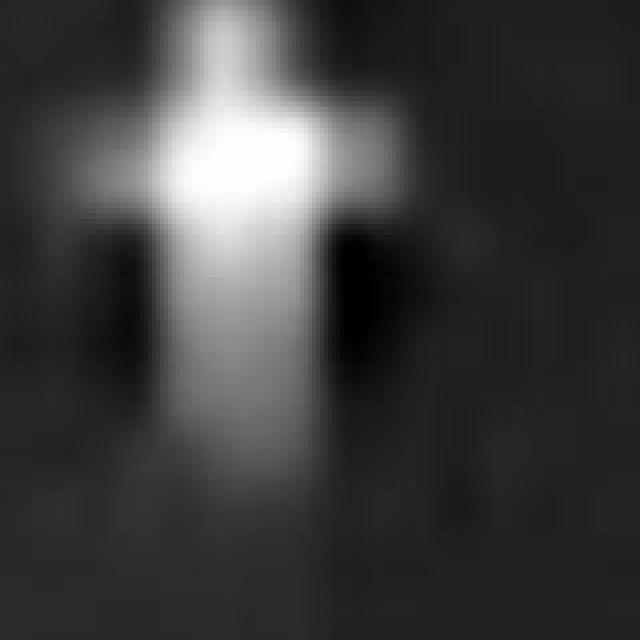person: (61, 1, 385, 438)
